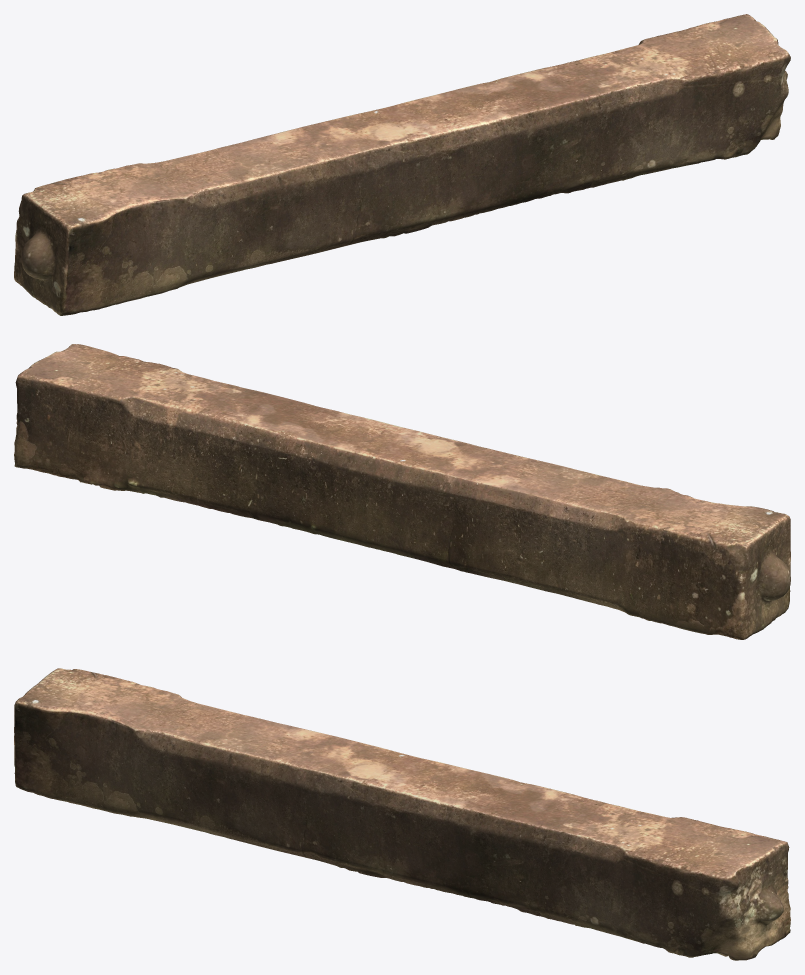
File: 17_MysonSanctuaryD_Trucot_final.glb
The picture shows the model from 3 angles, top to bottom: view 1: azimuth 30°, elevation 25°; view 2: azimuth 150°, elevation 25°; view 3: azimuth 330°, elevation 25°; orthographic projection.
Size of the model in its own units: 2 by 0.2426 by 0.246.
Materials: 1 (1 with a texture image).
